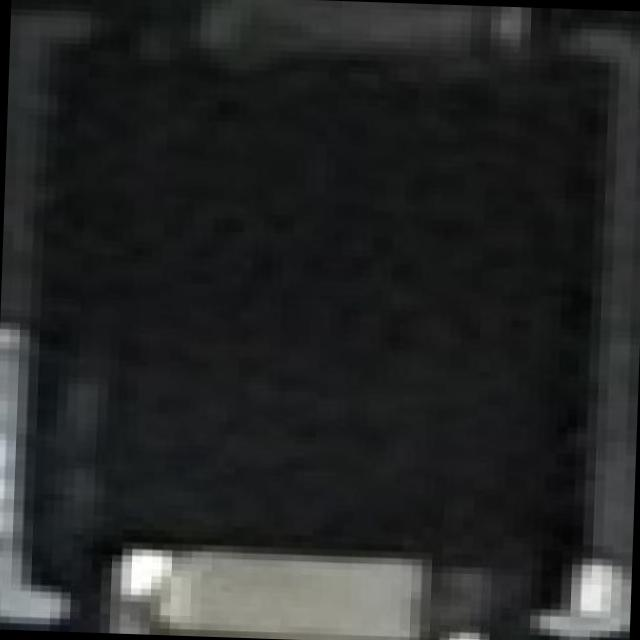diode: (18, 1, 640, 640)
